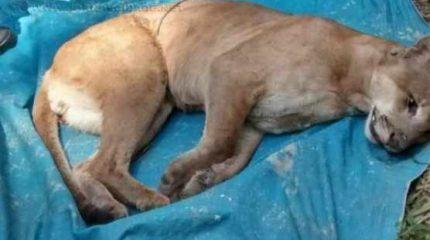OncaParda: (30, 4, 426, 218)
